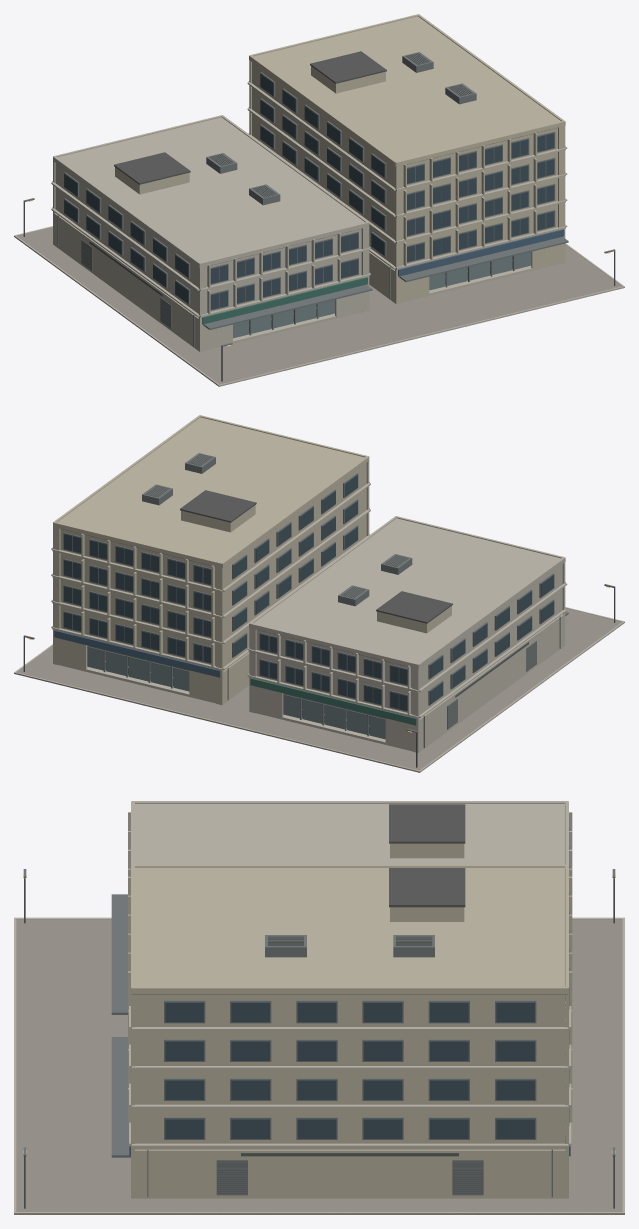
File: block-1-0.glb
3 views of the same model, one above another, from view 1: azimuth 30°, elevation 25°; view 2: azimuth 150°, elevation 25°; view 3: azimuth 270°, elevation 25° (orthographic). The views are drawn at different scales.
Visible parts, largest first — view 1: block-1-0:concrete, block-1-0:stucco, block-1-0:paversGrey, block-1-0:glass, block-1-0:aluminium, block-1-0:roof, block-1-0:shopGlass, block-1-0:darkSteel, block-1-0:blueTrim, block-1-0:greenTrim; view 2: block-1-0:concrete, block-1-0:stucco, block-1-0:glass, block-1-0:paversGrey, block-1-0:aluminium, block-1-0:shopGlass, block-1-0:roof, block-1-0:darkSteel, block-1-0:greenTrim, block-1-0:blueTrim; view 3: block-1-0:stucco, block-1-0:paversGrey, block-1-0:concrete, block-1-0:glass, block-1-0:aluminium, block-1-0:roof, block-1-0:darkSteel.
Part boxes in pixels (bbox=[...]): block-1-0:concrete: bbox=[14, 81, 624, 386]; block-1-0:stucco: bbox=[115, 14, 565, 304]; block-1-0:paversGrey: bbox=[14, 227, 624, 385]; block-1-0:glass: bbox=[64, 73, 554, 309]; block-1-0:aluminium: bbox=[23, 52, 615, 346]; block-1-0:roof: bbox=[114, 51, 557, 265]; block-1-0:shopGlass: bbox=[233, 252, 531, 338]; block-1-0:darkSteel: bbox=[23, 53, 615, 381]; block-1-0:blueTrim: bbox=[398, 229, 564, 276]; block-1-0:greenTrim: bbox=[202, 277, 367, 324]; block-1-0:concrete: bbox=[14, 482, 624, 772]; block-1-0:stucco: bbox=[53, 415, 451, 704]; block-1-0:glass: bbox=[64, 474, 554, 710]; block-1-0:paversGrey: bbox=[14, 608, 624, 772]; block-1-0:aluminium: bbox=[23, 453, 615, 747]; block-1-0:shopGlass: bbox=[87, 645, 385, 739]; block-1-0:roof: bbox=[60, 490, 452, 667]; block-1-0:darkSteel: bbox=[23, 454, 615, 767]; block-1-0:greenTrim: bbox=[250, 678, 416, 725]; block-1-0:blueTrim: bbox=[54, 630, 220, 677]; block-1-0:stucco: bbox=[128, 843, 572, 1198]; block-1-0:paversGrey: bbox=[14, 919, 624, 1214]; block-1-0:concrete: bbox=[14, 801, 624, 1214]; block-1-0:glass: bbox=[165, 1002, 534, 1138]; block-1-0:aluminium: bbox=[23, 827, 615, 1197]; block-1-0:roof: bbox=[132, 804, 567, 994]; block-1-0:darkSteel: bbox=[24, 878, 614, 1208].
Bounding box in the file's own units: 48 × 17.31 × 42.
